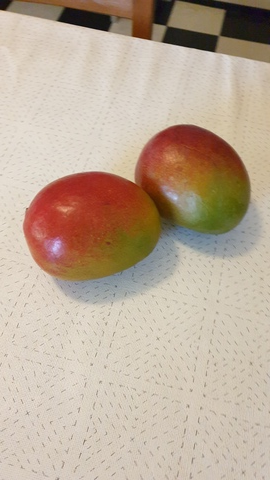Mango: (23, 171, 161, 279)
